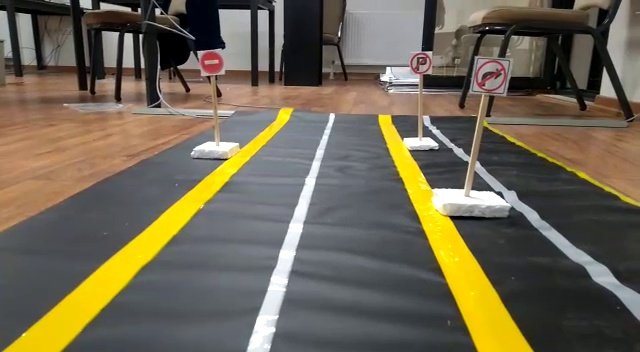girisi_olmayan_yol: (197, 51, 226, 79)
park_yapilmaz: (411, 48, 432, 76)
saga_donulmez: (469, 54, 509, 97)
